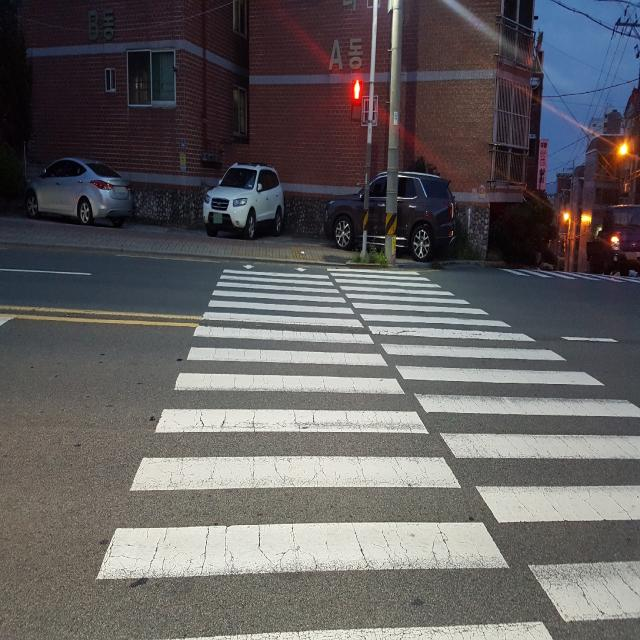빨간불: (352, 80, 362, 122)
횡단보도: (93, 264, 640, 640)
